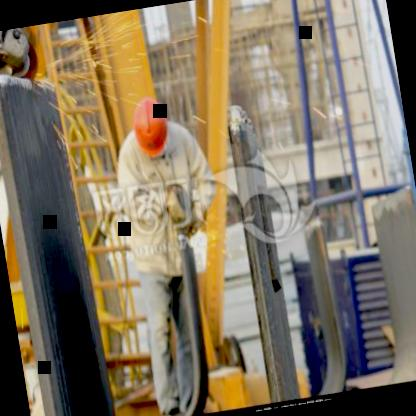helmet: (127, 94, 174, 164)
